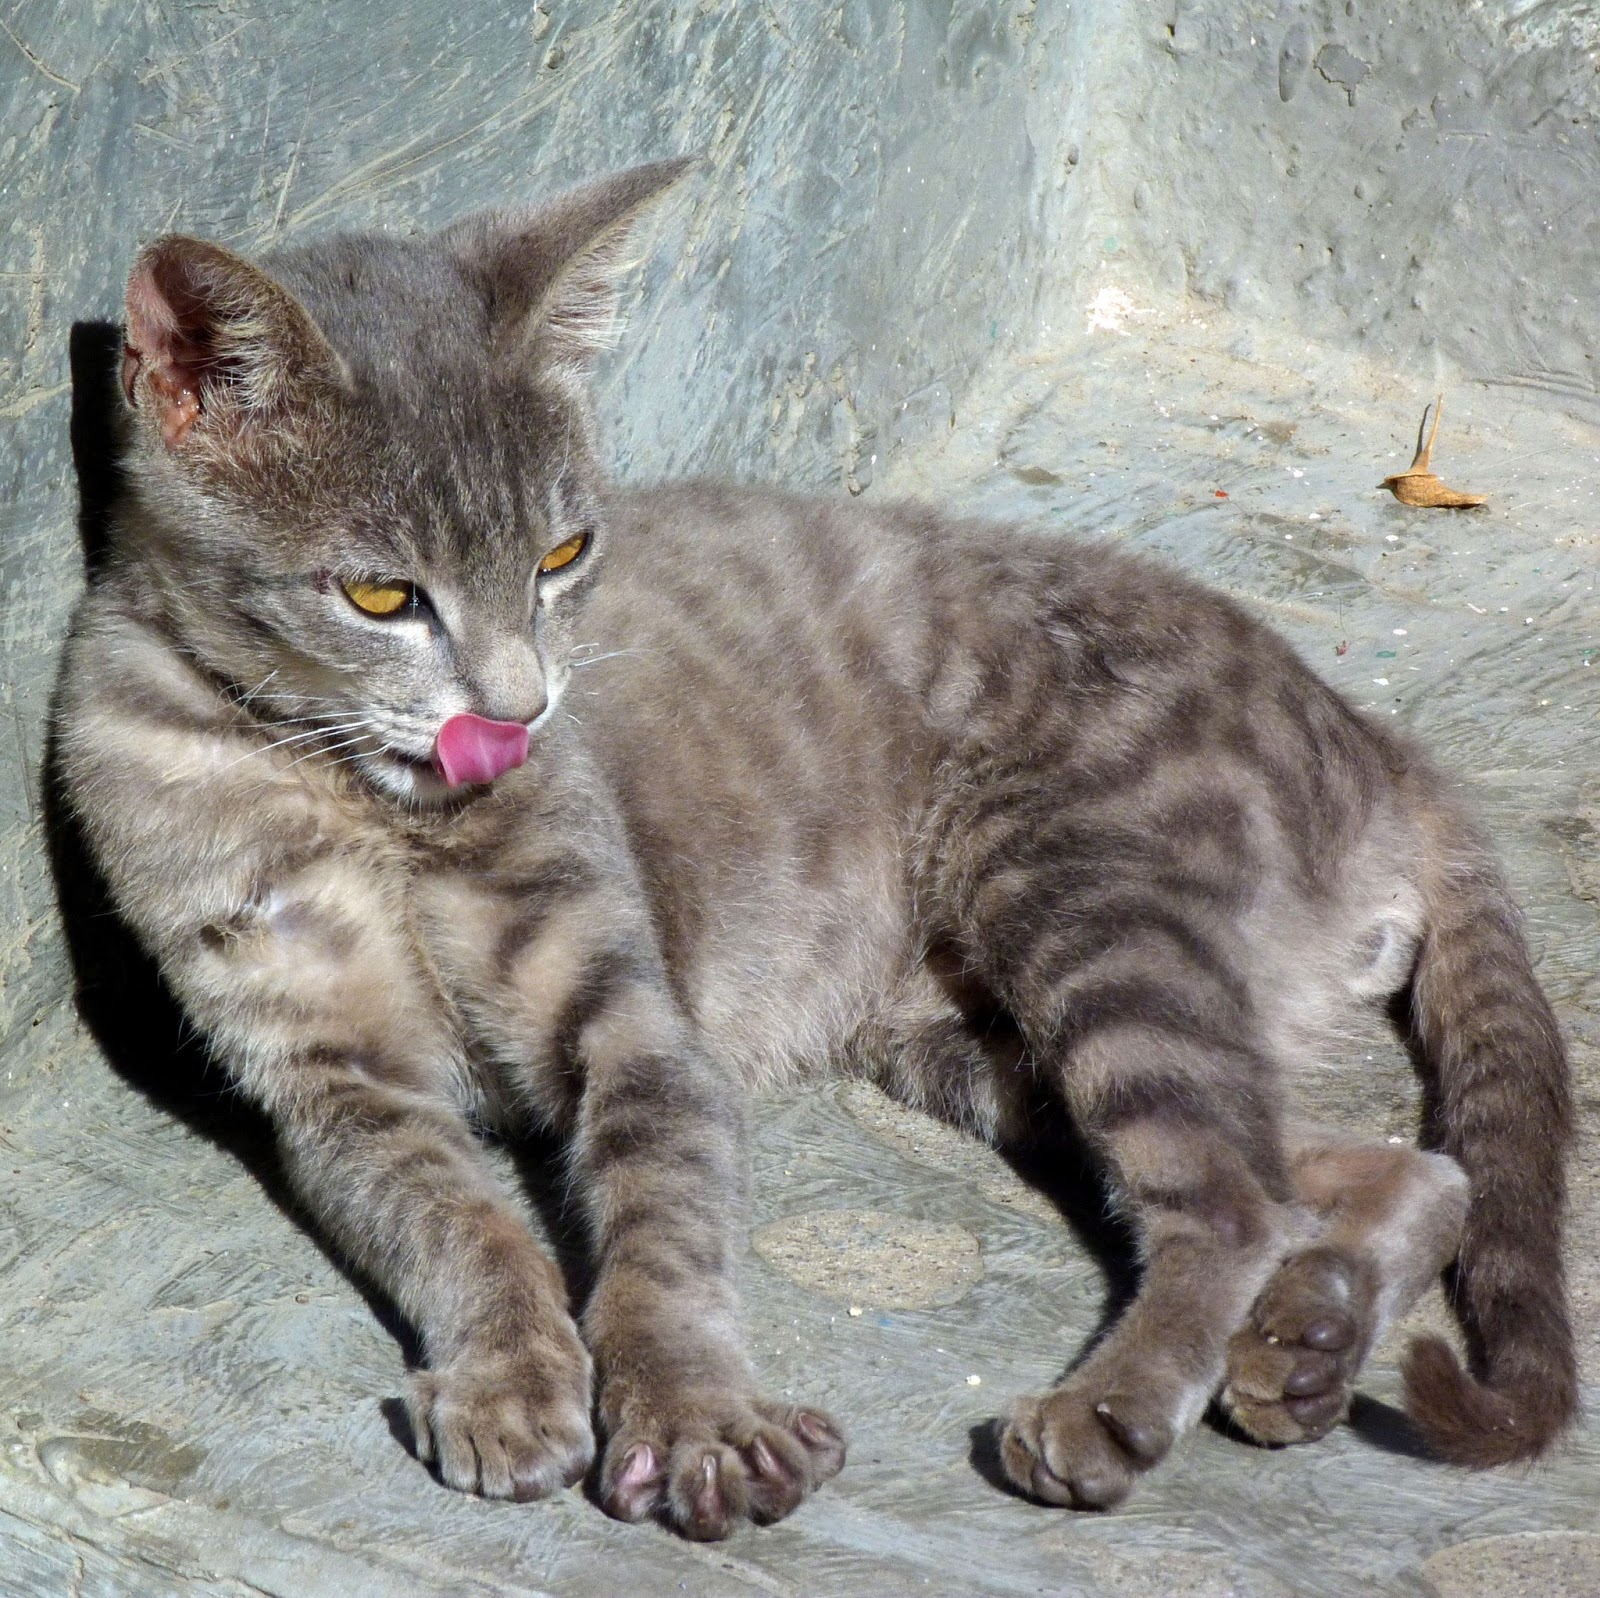cat: (29, 145, 1593, 1490)
